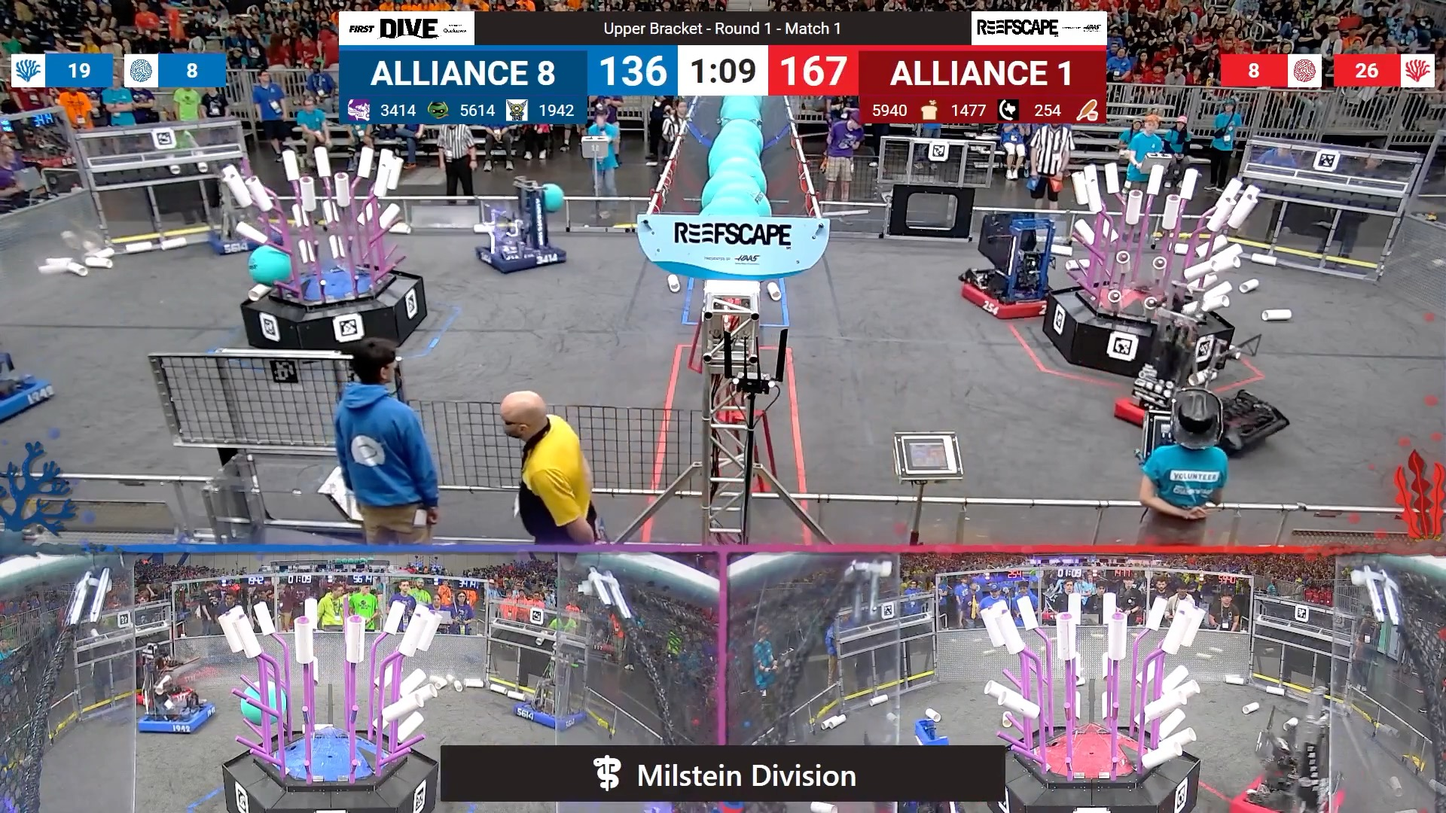bumpers: (1104, 383, 1281, 456), (1225, 768, 1355, 813), (954, 277, 1063, 324), (129, 698, 224, 742), (471, 237, 574, 277), (0, 372, 64, 432), (508, 696, 591, 734), (203, 222, 290, 256)
